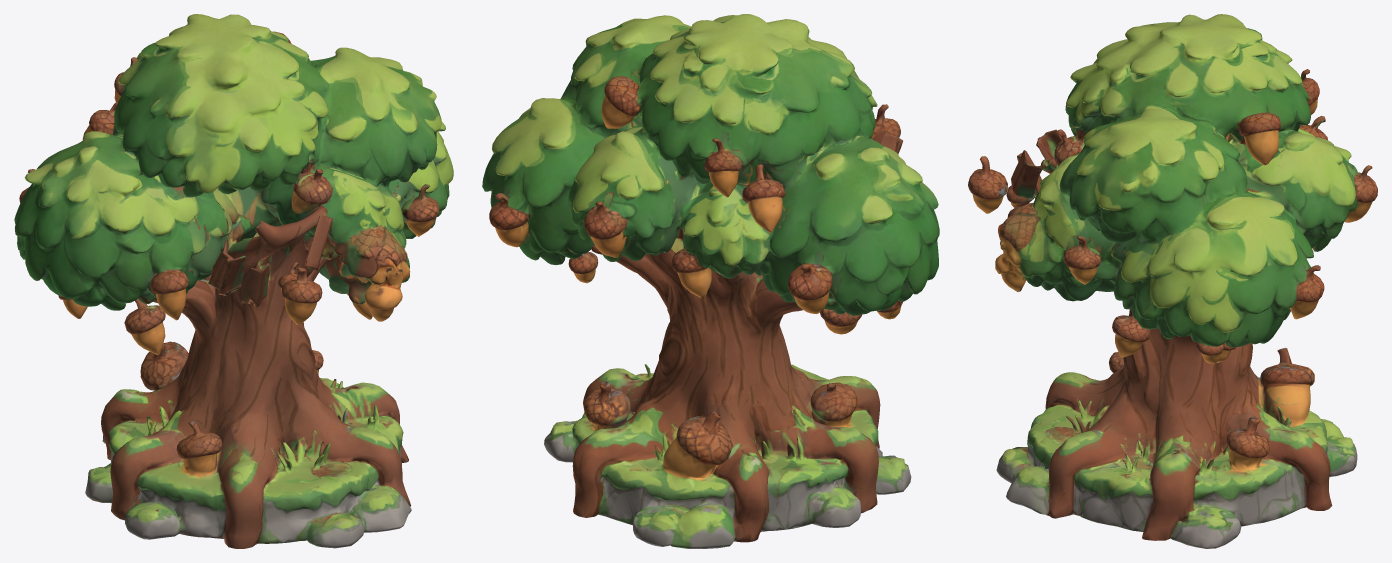
The model's file is AcornTree.fbx.
3 renders of one model, left to right at view 1: azimuth 30°, elevation 25°; view 2: azimuth 150°, elevation 25°; view 3: azimuth 270°, elevation 25°, orthographic. The views are drawn at different scales.
Visible parts, largest first — view 1: texture_mapping; view 2: texture_mapping; view 3: texture_mapping.
Part boxes in pixels (left/top/right/bottom): texture_mapping: left=14, top=14, right=453, bottom=548; texture_mapping: left=482, top=14, right=939, bottom=548; texture_mapping: left=968, top=14, right=1377, bottom=548.
Size of the model in its own units: 0.9769 by 0.8507 by 1.
Materials: 1 (1 with a texture image).
